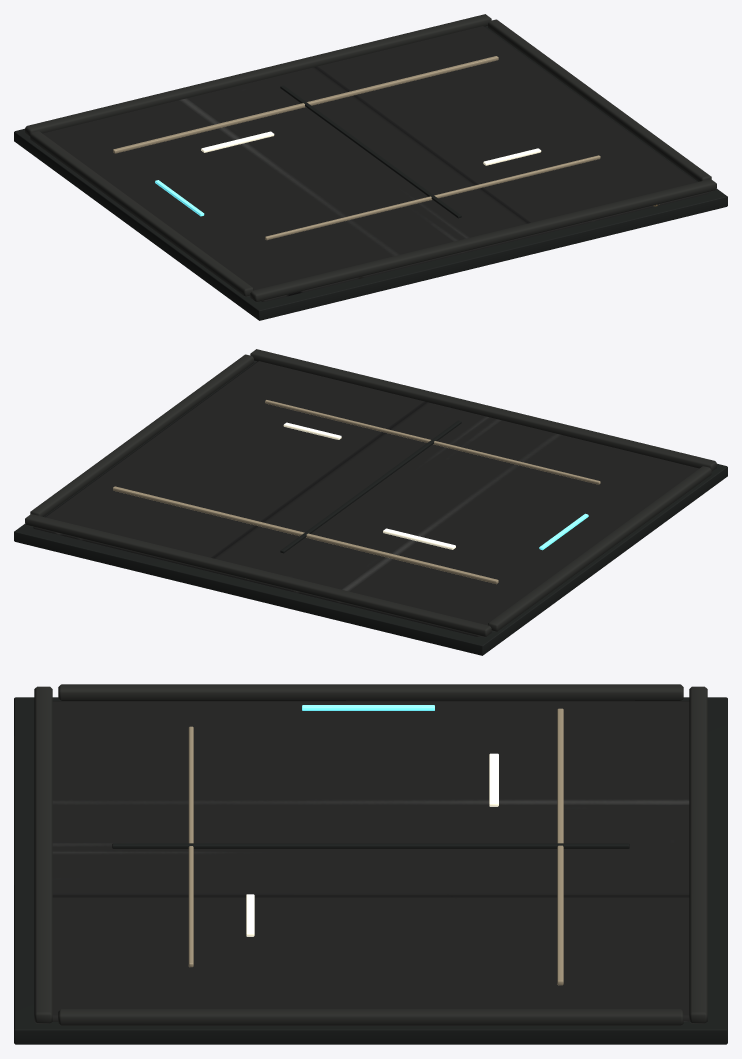
Rendered from hp_room_wall_panel_museum.glb.
The picture shows the model from 3 angles, top to bottom: view 1: azimuth 30°, elevation 25°; view 2: azimuth 150°, elevation 25°; view 3: azimuth 270°, elevation 25°; orthographic projection. The views are drawn at different scales.
Visible parts, largest first — view 1: museum_wall_stone_main_slab, museum_wall_black_recess_back, museum_wall_bottom_smoked_frame, museum_wall_top_smoked_frame, museum_wall_left_smoked_frame, museum_wall_right_smoked_frame, museum_wall_upper_brass_datum, museum_wall_lower_brass_datum, museum_wall_center_shadow_groove; view 2: museum_wall_stone_main_slab, museum_wall_black_recess_back, museum_wall_top_smoked_frame, museum_wall_bottom_smoked_frame, museum_wall_left_smoked_frame, museum_wall_right_smoked_frame, museum_wall_upper_brass_datum, museum_wall_lower_brass_datum, museum_wall_center_shadow_groove; view 3: museum_wall_stone_main_slab, museum_wall_black_recess_back, museum_wall_right_smoked_frame, museum_wall_left_smoked_frame, museum_wall_bottom_smoked_frame, museum_wall_top_smoked_frame, museum_wall_center_shadow_groove, museum_wall_upper_brass_datum, museum_wall_lower_brass_datum, museum_wall_cyan_service_tick_left.
Part boxes in pixels (box(x1,y1,x2,y2)): museum_wall_stone_main_slab: box(42, 26, 708, 301); museum_wall_black_recess_back: box(14, 26, 727, 320); museum_wall_bottom_smoked_frame: box(250, 179, 716, 302); museum_wall_top_smoked_frame: box(25, 14, 491, 136); museum_wall_left_smoked_frame: box(30, 131, 253, 296); museum_wall_right_smoked_frame: box(488, 19, 711, 181); museum_wall_upper_brass_datum: box(113, 56, 498, 153); museum_wall_lower_brass_datum: box(265, 155, 600, 240); museum_wall_center_shadow_groove: box(280, 85, 461, 218); museum_wall_stone_main_slab: box(33, 361, 699, 636); museum_wall_black_recess_back: box(14, 361, 727, 655); museum_wall_top_smoked_frame: box(25, 514, 491, 637); museum_wall_bottom_smoked_frame: box(250, 349, 716, 471); museum_wall_left_smoked_frame: box(488, 466, 711, 631); museum_wall_right_smoked_frame: box(30, 354, 253, 516); museum_wall_upper_brass_datum: box(113, 486, 498, 584); museum_wall_lower_brass_datum: box(265, 400, 600, 484); museum_wall_center_shadow_groove: box(280, 420, 461, 553); museum_wall_stone_main_slab: box(52, 701, 689, 1021); museum_wall_black_recess_back: box(14, 697, 727, 1044); museum_wall_right_smoked_frame: box(58, 1009, 683, 1025); museum_wall_left_smoked_frame: box(58, 684, 683, 700); museum_wall_bottom_smoked_frame: box(34, 686, 52, 1023); museum_wall_top_smoked_frame: box(689, 686, 707, 1023); museum_wall_center_shadow_groove: box(112, 843, 629, 848); museum_wall_upper_brass_datum: box(557, 708, 563, 985); museum_wall_lower_brass_datum: box(188, 726, 193, 967); museum_wall_cyan_service_tick_left: box(302, 705, 434, 710).
Bounding box in the file's own units: 3.2 × 0.163 × 2.9.
6 materials, 1 textured.
